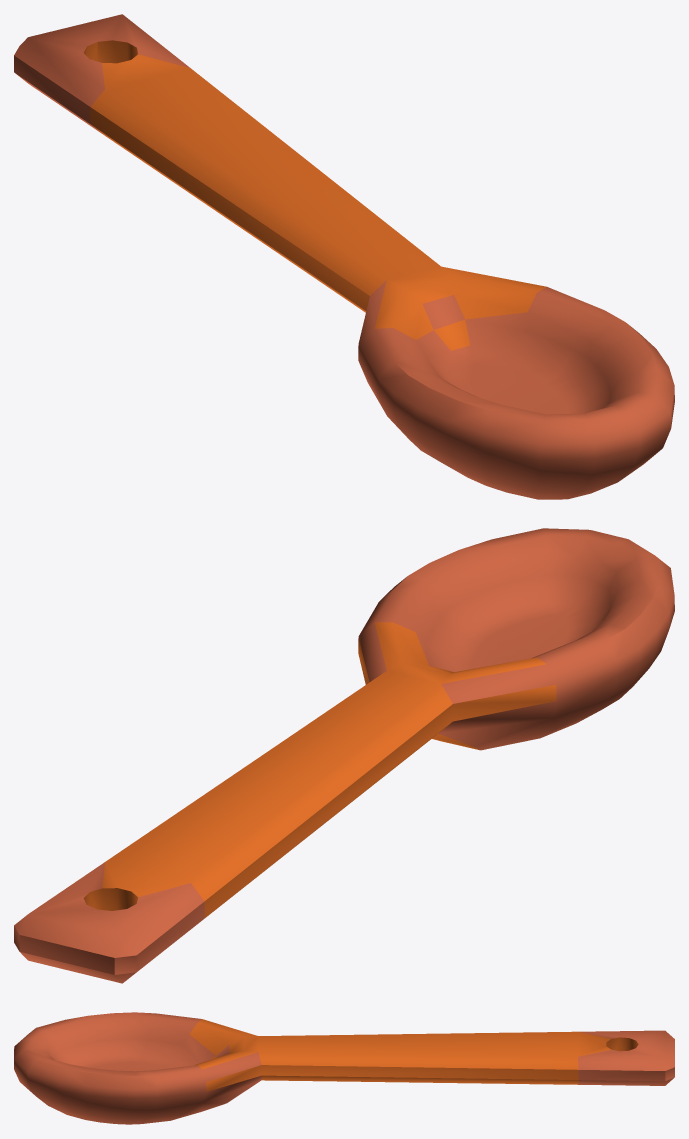
File: colher_pau_natal_pacote.glb
The picture shows the model from 3 angles, top to bottom: view 1: azimuth 30°, elevation 25°; view 2: azimuth 150°, elevation 25°; view 3: azimuth 270°, elevation 25°; orthographic projection. The views are drawn at different scales.
Parts seen in each view (by area): view 1: colher_pau_natal_pacote; view 2: colher_pau_natal_pacote; view 3: colher_pau_natal_pacote.
Part boxes in pixels (x1,y1,x2,y2): colher_pau_natal_pacote: (14,14,674,499); colher_pau_natal_pacote: (14,528,674,983); colher_pau_natal_pacote: (14,1012,674,1124).
Bounding box in the file's own units: 0.057 × 0.0248 × 0.2205.
Materials: 1 (1 with a texture image).
